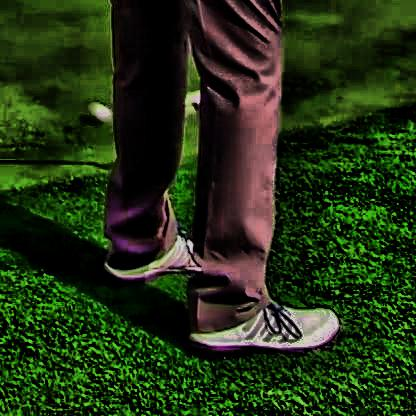golfball: (87, 100, 111, 122)
